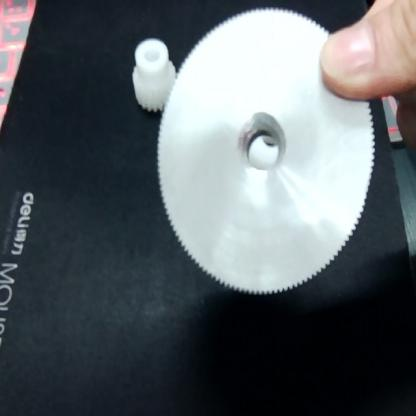FOD: (153, 1, 375, 300), (125, 34, 173, 116)
